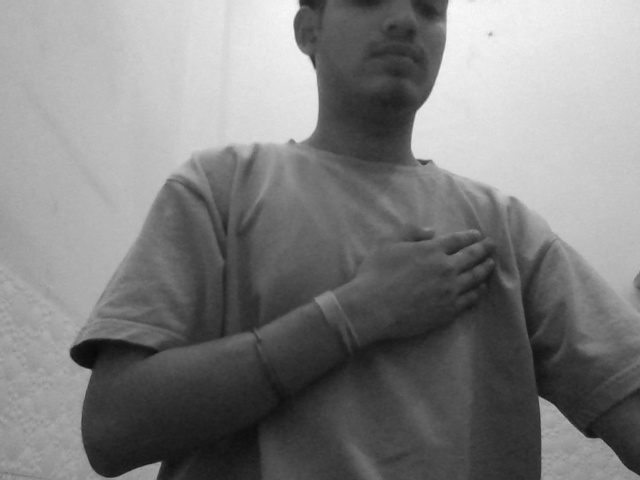Sorry: (337, 211, 534, 367)
